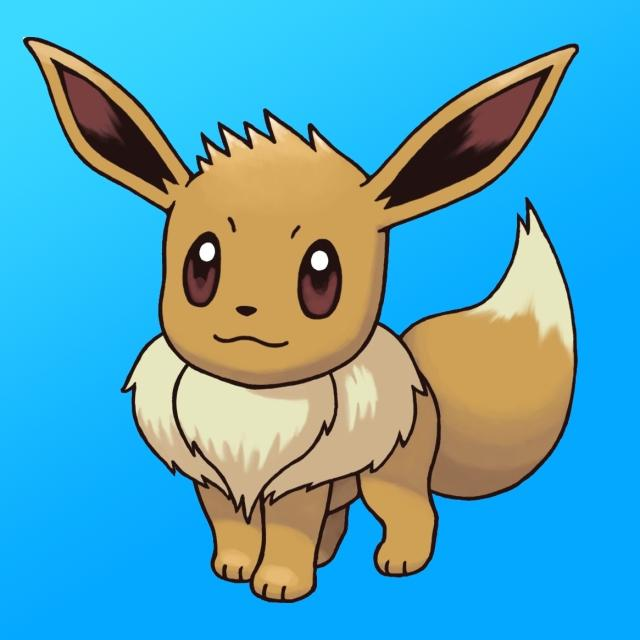Eevee: (128, 107, 513, 589)
